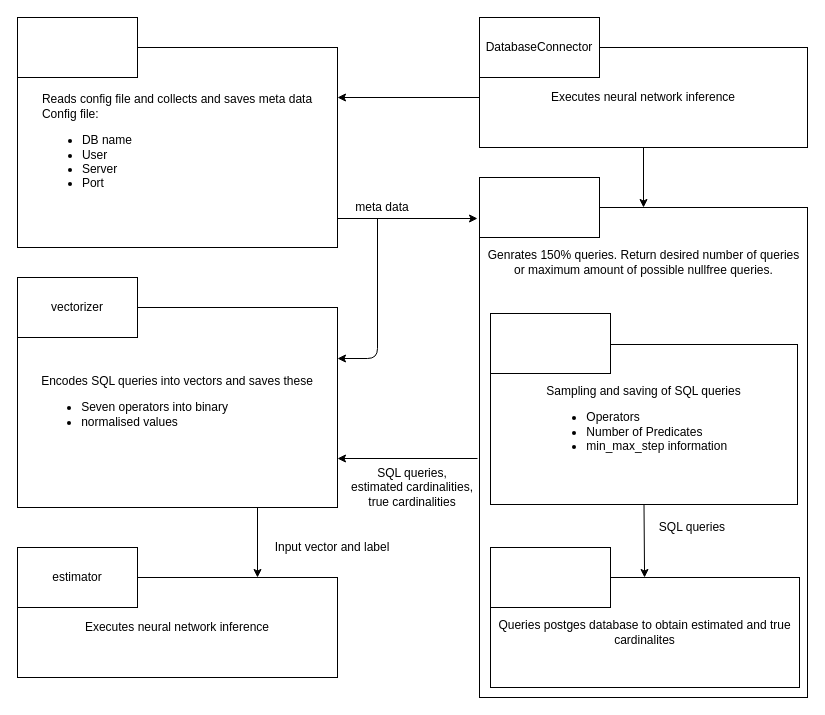
Image size: 825x715. Some labels were removed from this diagram. The shapes that lost their labels are listed below. From the top down, each one's centre as x and y in pixels, then its label:
the point at 77,47: MetaCollector
the point at 539,207: QueryCommunicator
the point at 550,343: SQLGenerator
the point at 550,577: PostgresEvaluator
